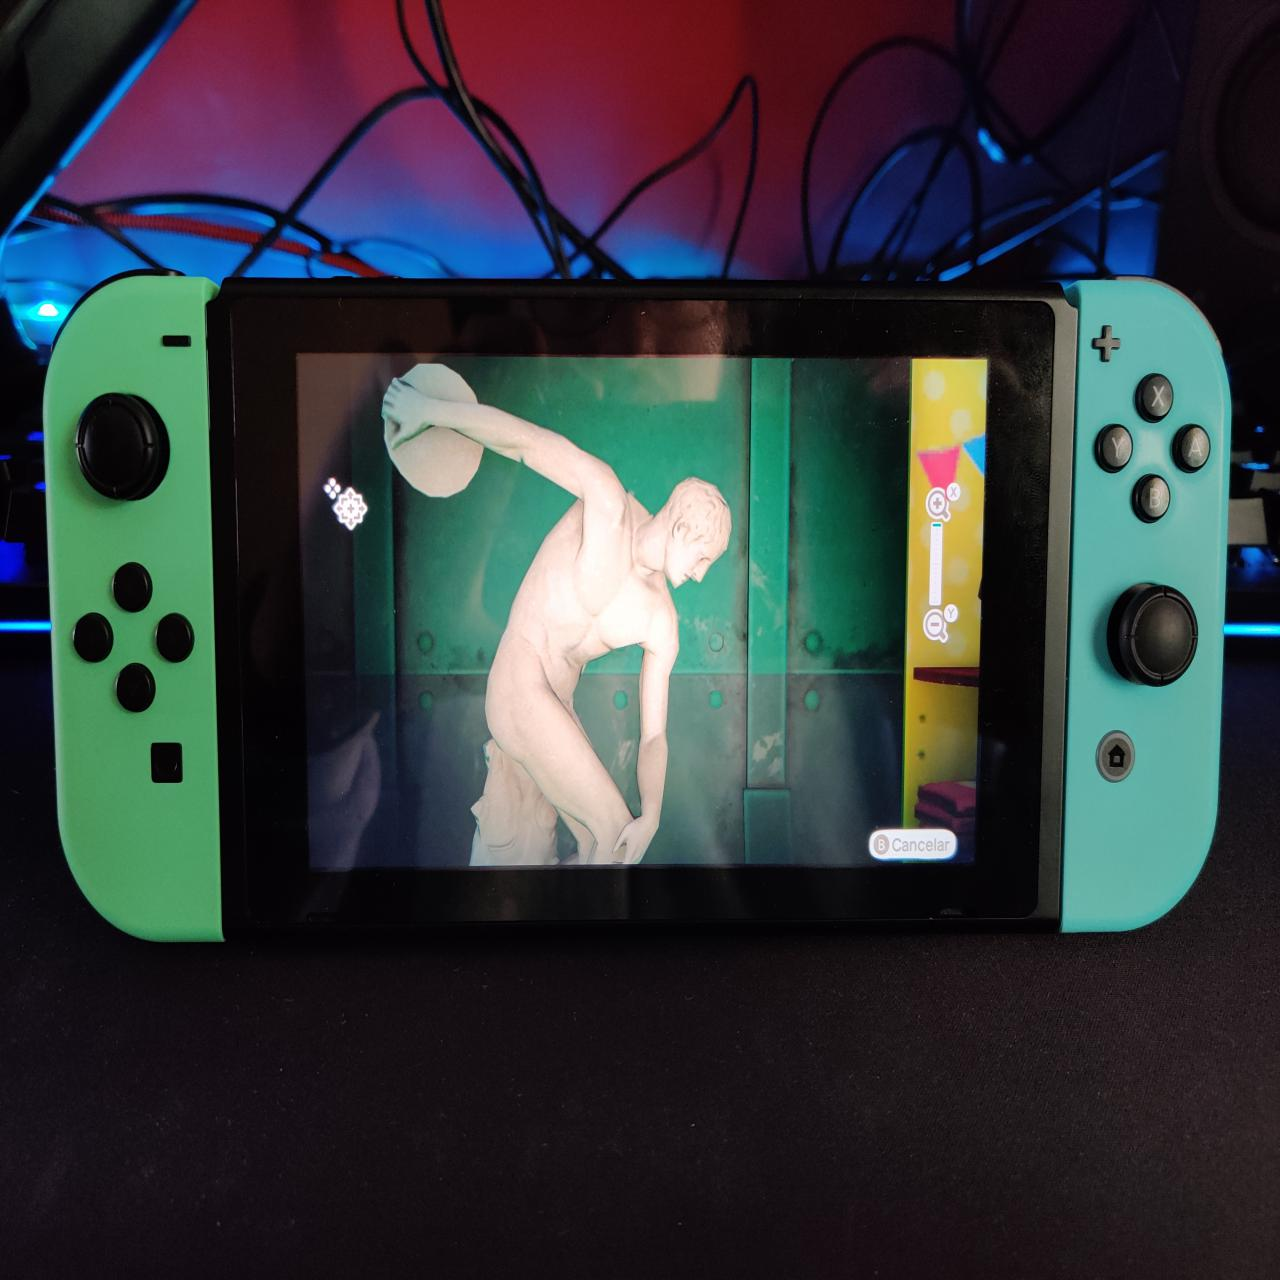Diskobolos: (383, 354, 741, 863)
